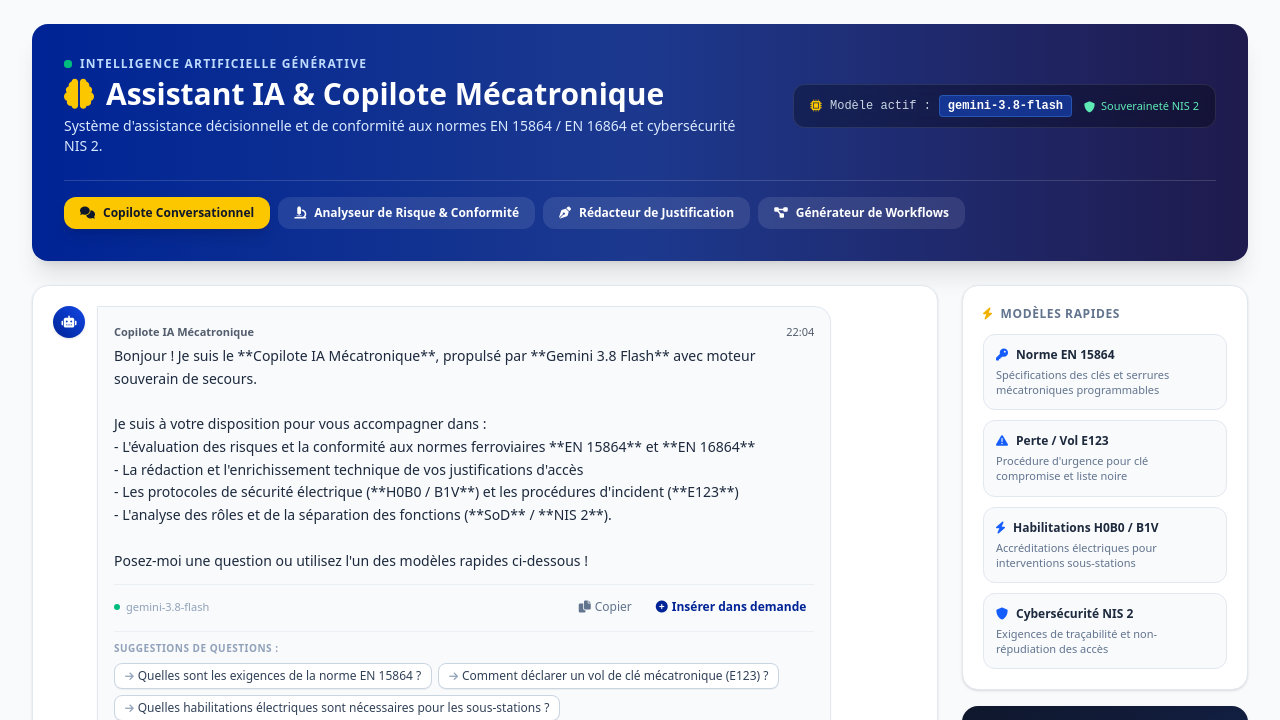
Test: AssistantIA Page Component › switches to the request analyzer tab and runs risk evaluation
Click the button "Analyseur de Risque & Conformité" at (407, 213), box [278,197,535,229]
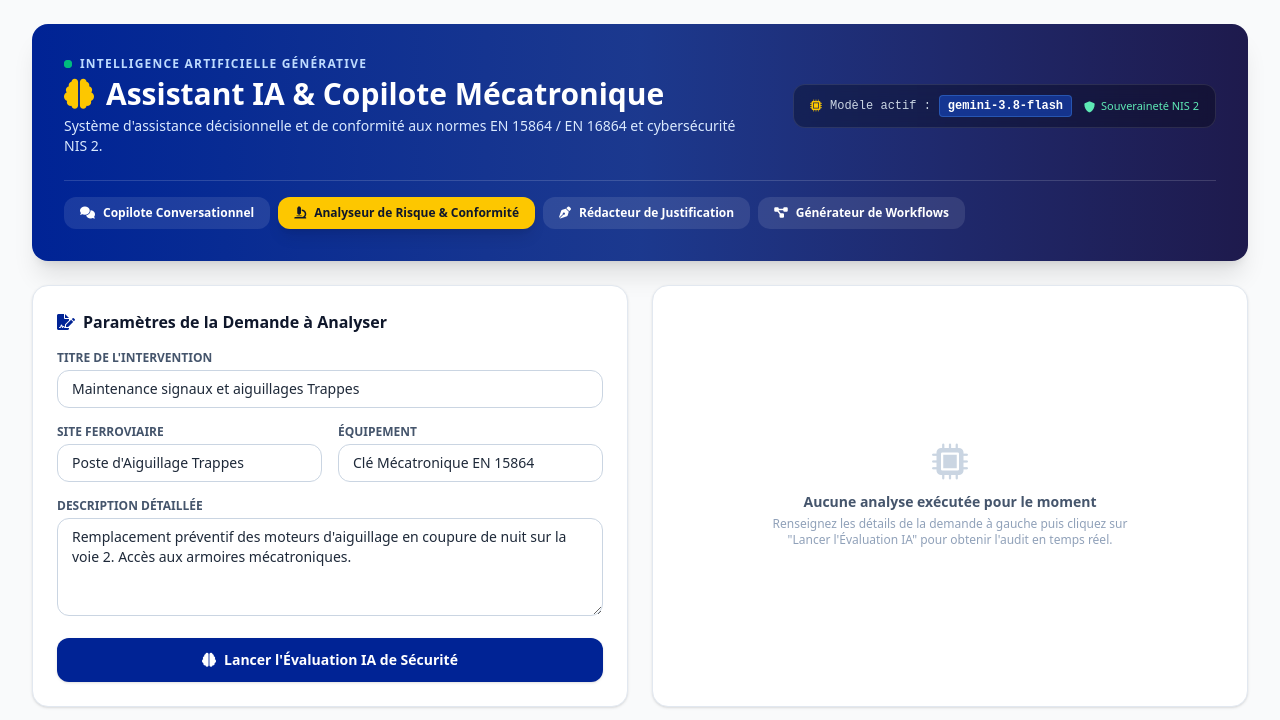
Expected: the text "Paramètres de la Demande à Analyser" is shown, [83,310,387,334]
Click the button "Lancer l'Évaluation IA de Sécurité" at (330, 660), box [57,638,603,682]
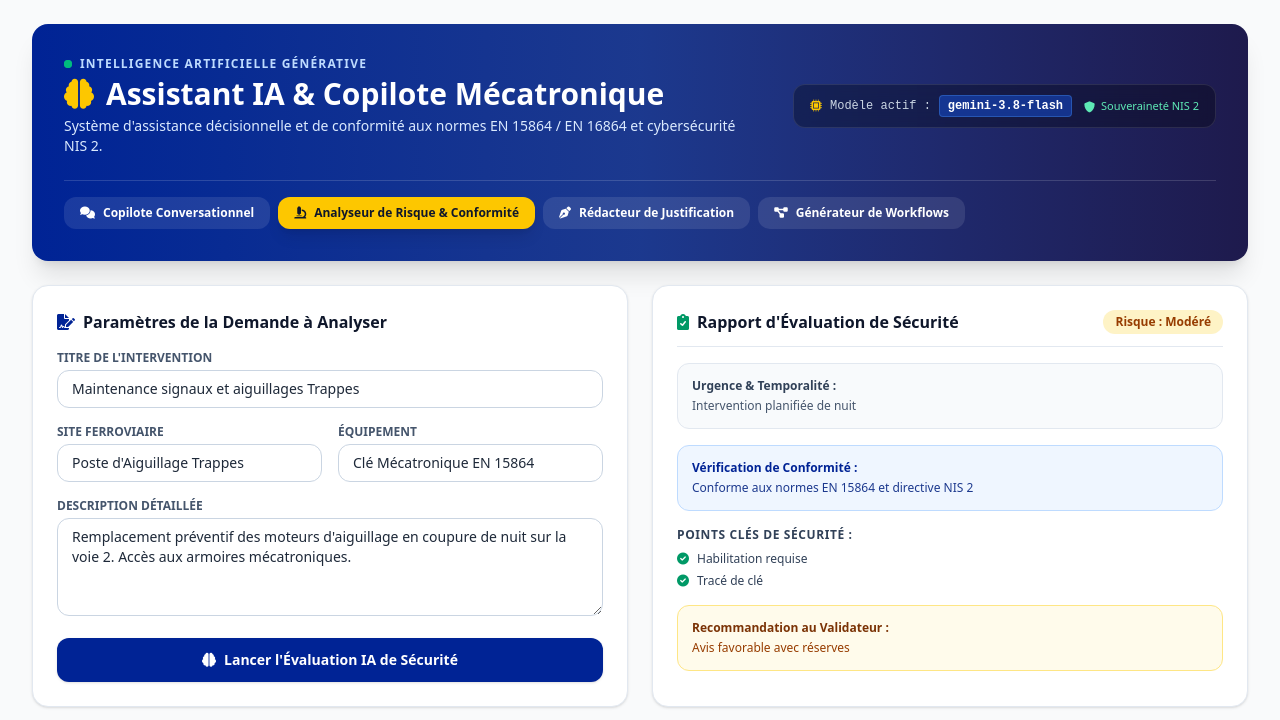
Expected: the text "Rapport d'Évaluation de Sécurité" is shown, [697,310,959,334]
Expected: the text "Risque : Modéré" is shown, [1104,310,1223,334]
Expected: the text "Conforme aux normes EN 15864 et directive NIS 2" is shown, [692,479,973,496]
